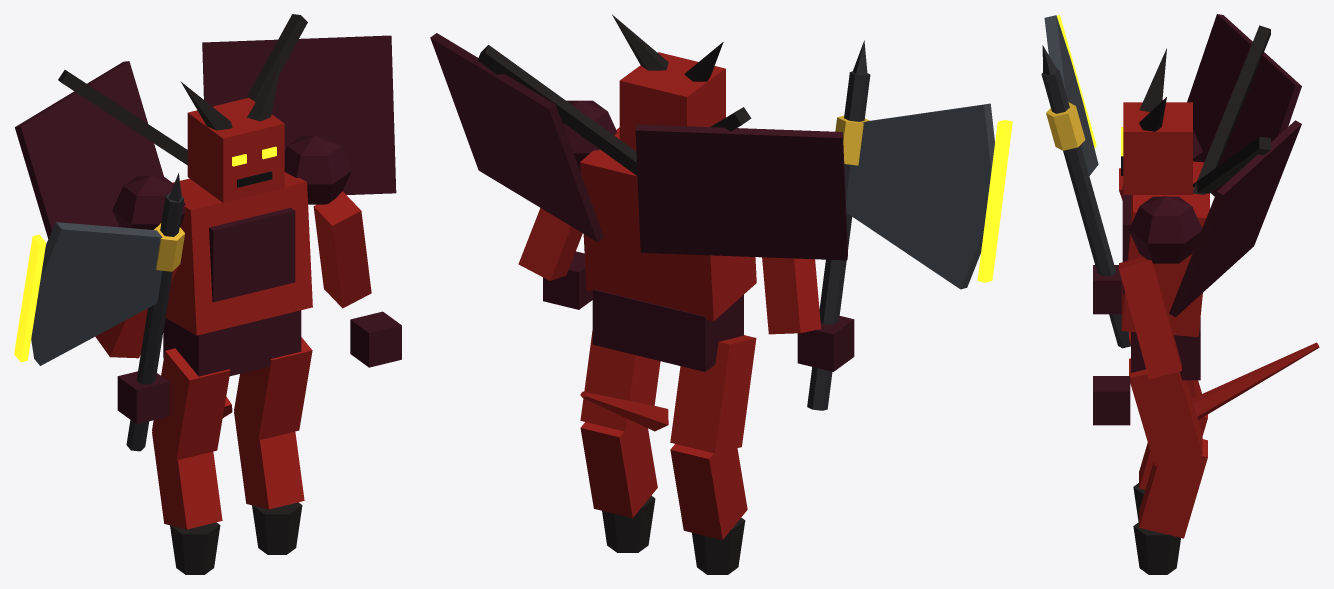
The model's file is Boss_Demon.fbx.
The picture shows the model from 3 angles, left to right: view 1: azimuth 30°, elevation 25°; view 2: azimuth 150°, elevation 25°; view 3: azimuth 270°, elevation 25°; orthographic projection. The views are drawn at different scales.
Parts seen in each view (by area): view 1: Boss_Body, Boss_Weapon; view 2: Boss_Body, Boss_Weapon; view 3: Boss_Body, Boss_Weapon.
Part boxes in pixels (x1,y1,x2,y2): Boss_Body: (15,14,401,574); Boss_Weapon: (14,173,184,451); Boss_Body: (430,14,854,574); Boss_Weapon: (807,40,1012,410); Boss_Body: (1093,14,1319,574); Boss_Weapon: (1041,15,1130,348).
Size of the model in its own units: 3.23 by 3.4 by 1.8.
